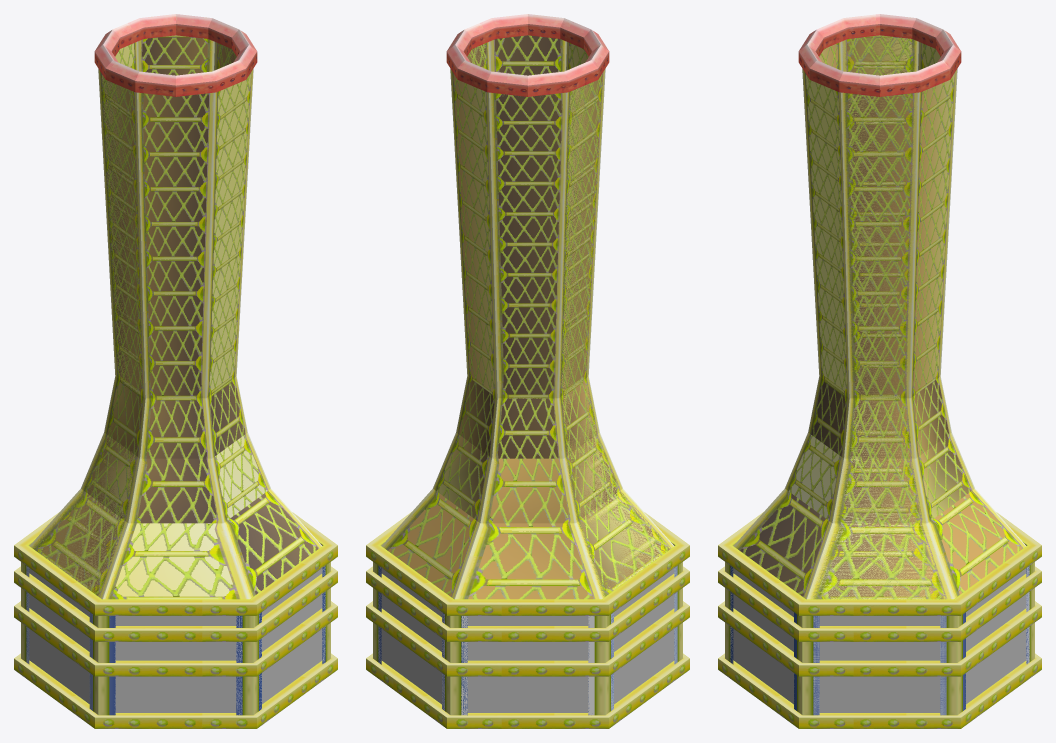
Rendered from riccobasket_bake.dae.
3 renders of one model, left to right at view 1: azimuth 30°, elevation 25°; view 2: azimuth 150°, elevation 25°; view 3: azimuth 270°, elevation 25°, orthographic.
Parts seen in each view (by area): view 1: m0, m0_VC, m1; view 2: m0, m0_VC, m1; view 3: m0, m0_VC, m1.
Part boxes in pixels (box(x1,y1,x2,y2)): m0: box(14, 14, 337, 728); m0_VC: box(26, 37, 325, 715); m1: box(29, 568, 322, 712); m0: box(366, 14, 689, 728); m0_VC: box(378, 35, 677, 715); m1: box(381, 568, 674, 712); m0: box(718, 14, 1041, 728); m0_VC: box(730, 35, 1029, 715); m1: box(733, 568, 1026, 712).
Size of the model in its own units: 2236 by 5494 by 2581.
